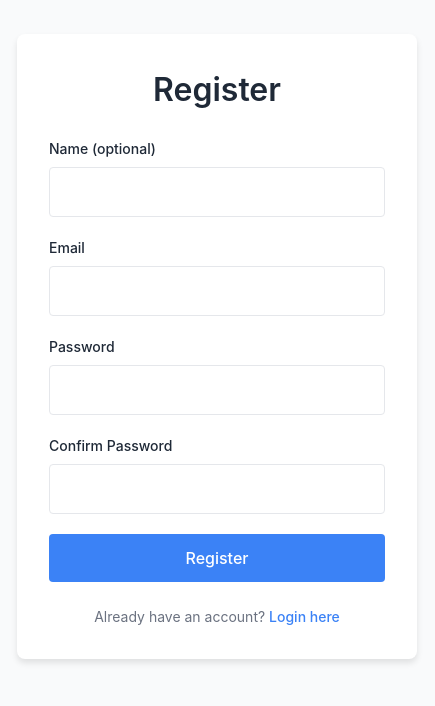
Test: RegisterPage › form validation › should reject password mismatch on submit
The image size is (435, 706).
Type "test@example.com" into the field labelled "Email" at coordinates (217, 290), box [49, 266, 385, 316]
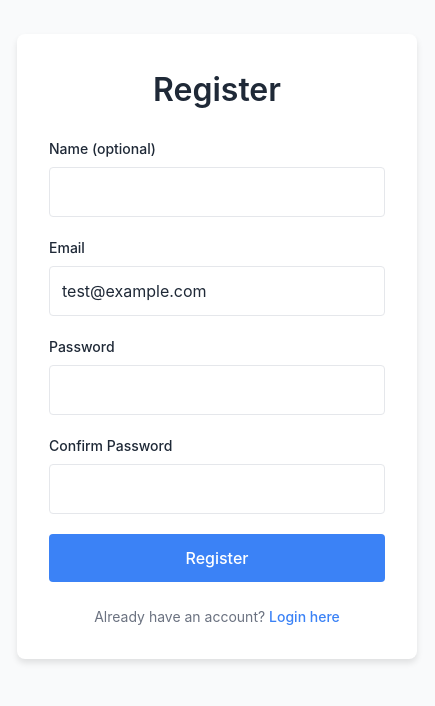
Type "StrongPass123!" into the password field labelled "Password" at coordinates (217, 390), box [49, 364, 385, 414]
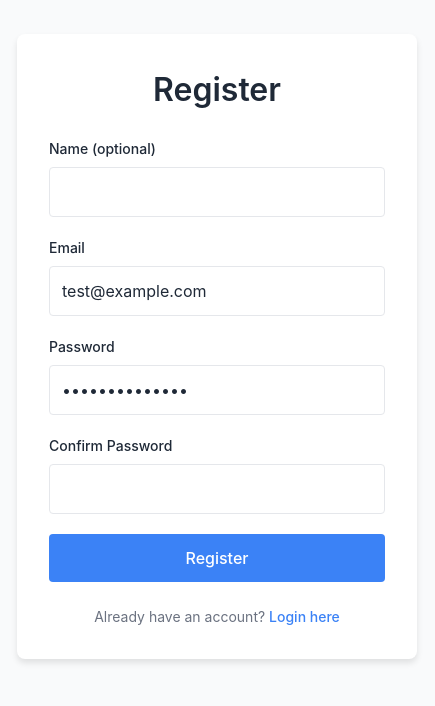
Type "DifferentPass123!" into the password field labelled "Confirm Password" at coordinates (217, 488), box [49, 464, 385, 514]
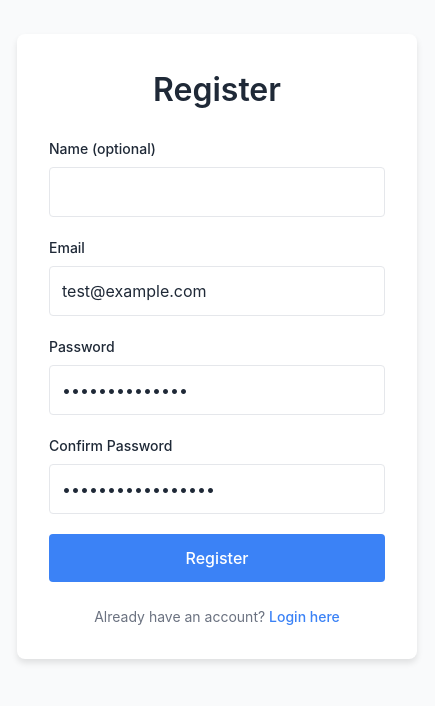
Click the button "Register" at coordinates (217, 558), box [49, 534, 385, 582]
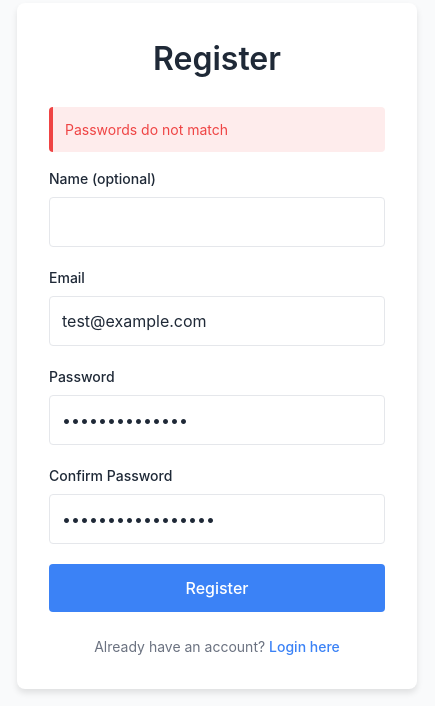
Result: the text "Passwords do not match" is shown at [49, 107, 385, 152]
